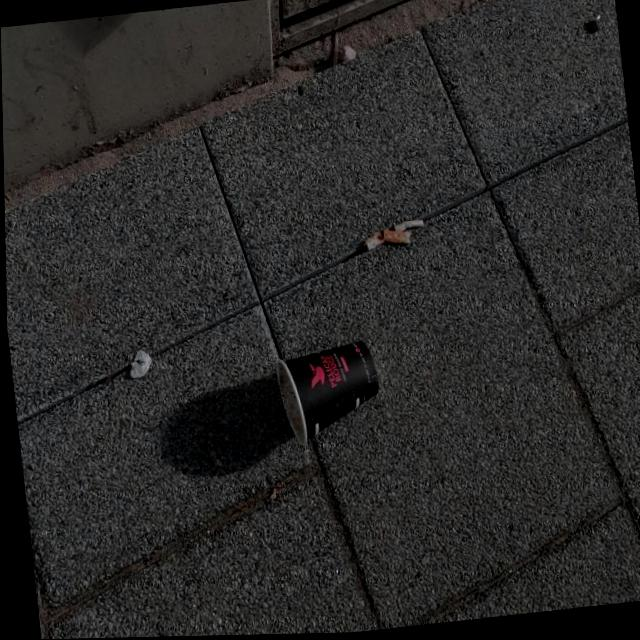Cup: (269, 335, 385, 451)
